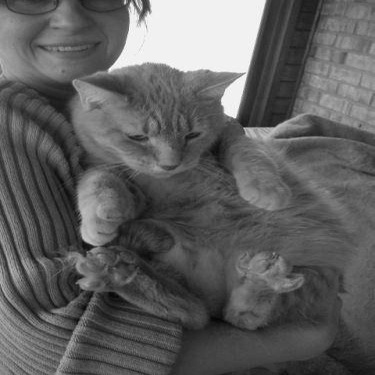cat: (68, 59, 366, 338)
